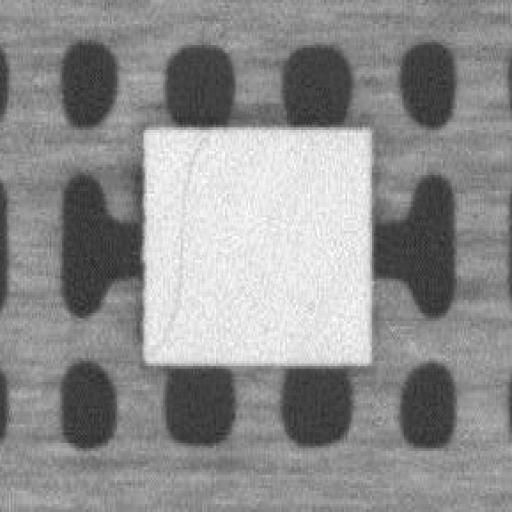DIE_CRACK: (149, 136, 207, 348)
